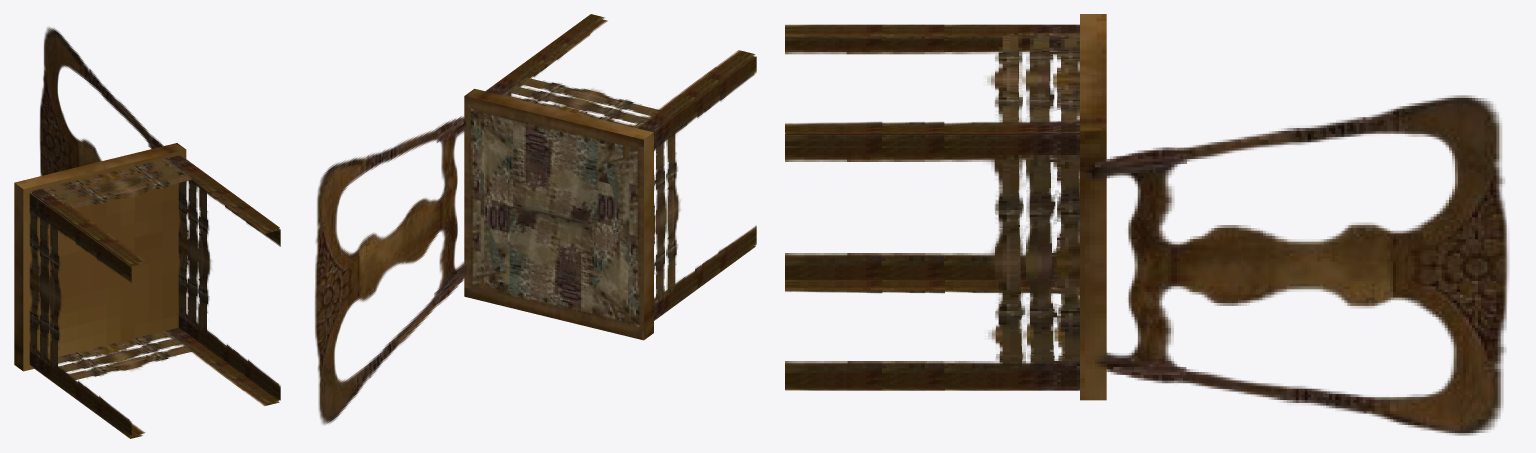
The model's file is chair.glb.
3 renders of one model, left to right at view 1: azimuth 30°, elevation 25°; view 2: azimuth 150°, elevation 25°; view 3: azimuth 270°, elevation 25°, orthographic. The views are drawn at different scales.
Parts seen in each view (by area): view 1: chair; view 2: chair; view 3: chair.
Boxes of the visible parts, x1,y1,x2,y2 form: chair: (14,27,280,438); chair: (315,14,756,424); chair: (785,14,1508,435).
Size of the model in its own units: 0.4197 by 0.5747 by 1.11.
1 material, 1 textured.
